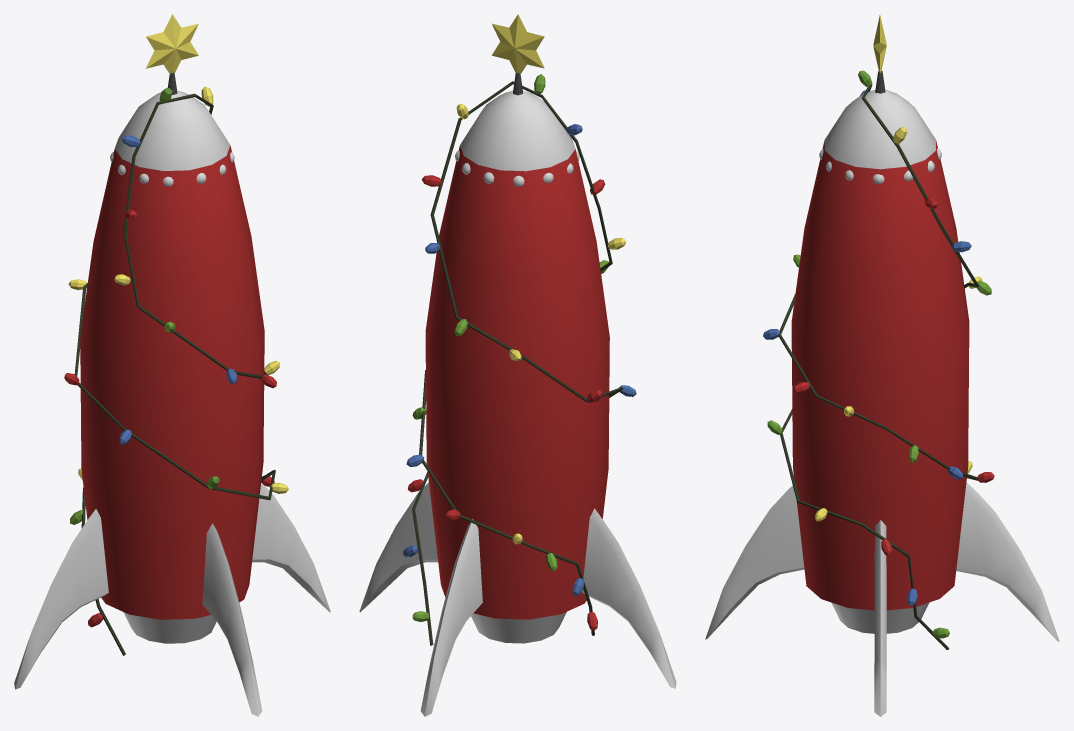
Rendered from M_Rocket.FBX.
The picture shows the model from 3 angles, left to right: view 1: azimuth 30°, elevation 25°; view 2: azimuth 150°, elevation 25°; view 3: azimuth 270°, elevation 25°; orthographic projection.
Parts seen in each view (by area): view 1: Cylinder003, Luces; view 2: Cylinder003, Luces; view 3: Cylinder003, Luces.
Boxes of the visible parts, x1,y1,x2,y2 form: Cylinder003: (14, 14, 330, 716); Luces: (64, 86, 288, 627); Cylinder003: (359, 14, 676, 716); Luces: (403, 74, 636, 630); Cylinder003: (705, 14, 1059, 716); Luces: (763, 70, 994, 638).
Bounding box in the file's own units: 260 × 503 × 258.
